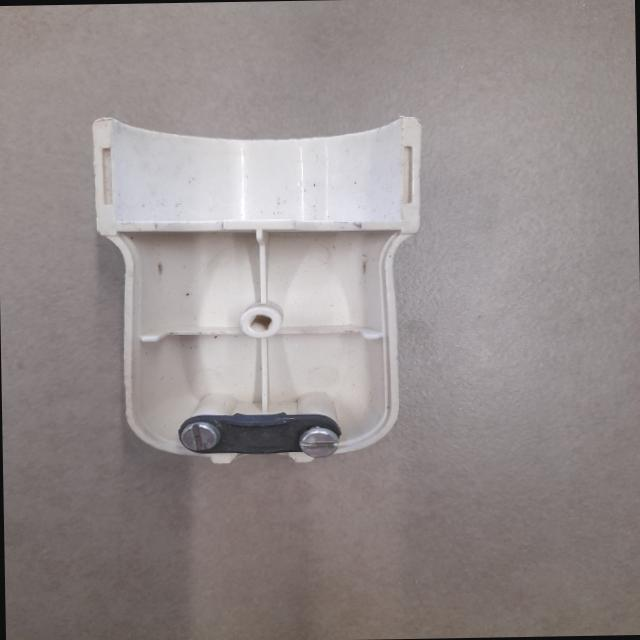Slotted: (296, 426, 340, 457), (180, 420, 219, 452)
